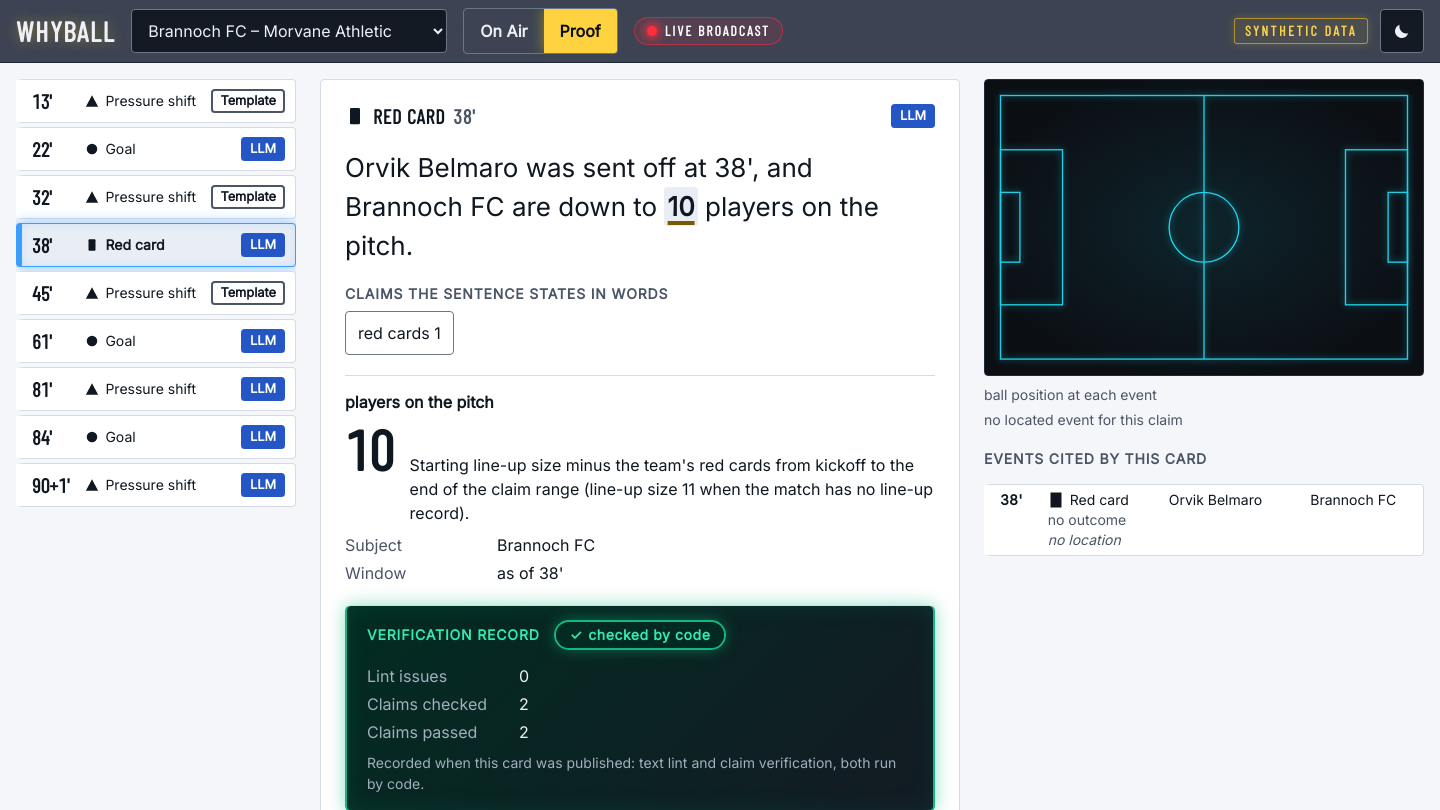
Scenario: Flip between On Air and Proof › P in Proof returns to On Air at that moment's time, paused, with its card
The width and height of the screenshot is (1440, 810).
Click the option "13' Pressure shift Template" at (156, 101), box [16,79,296,123]
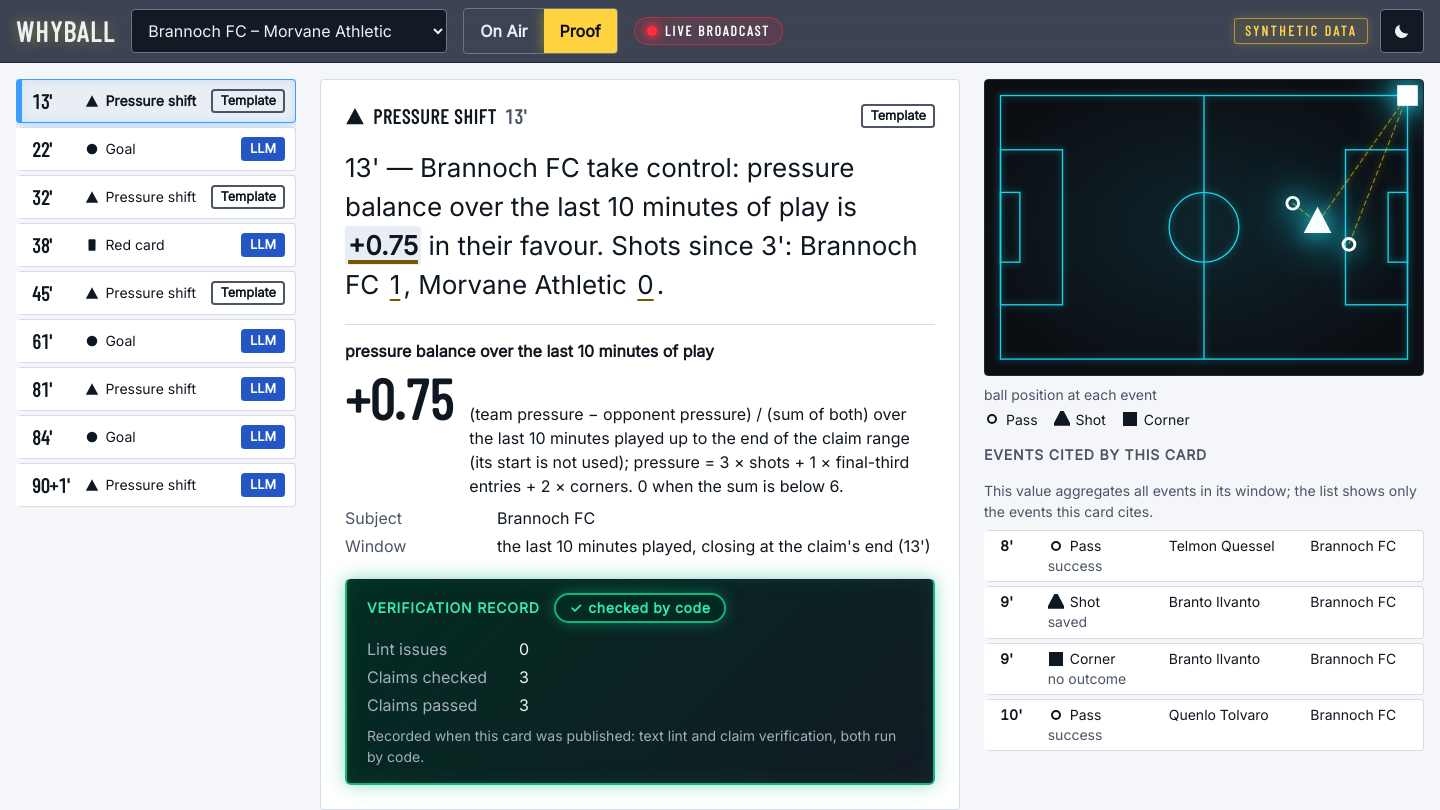
Press p
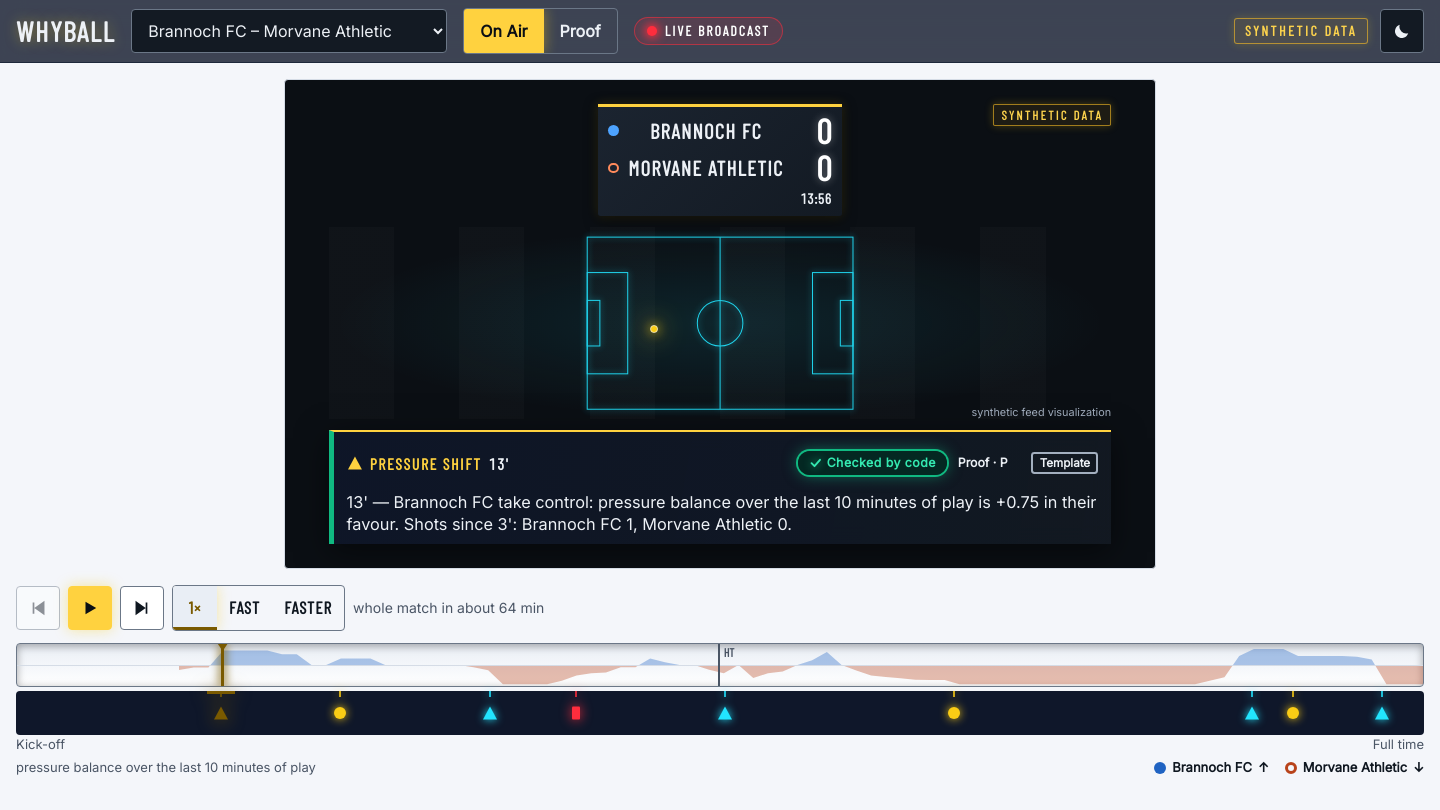
Check: the button named "Play" is shown, box [68,586,112,630]
